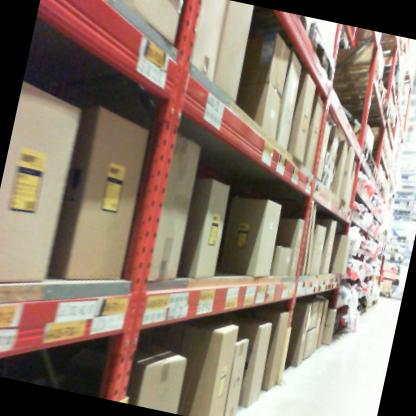pallet: (264, 11, 350, 89), (316, 48, 385, 102), (322, 69, 391, 111), (337, 84, 394, 124), (377, 57, 407, 100), (359, 114, 400, 136), (348, 135, 374, 162), (348, 242, 368, 263), (363, 152, 378, 178), (357, 268, 374, 287), (369, 161, 381, 186)
